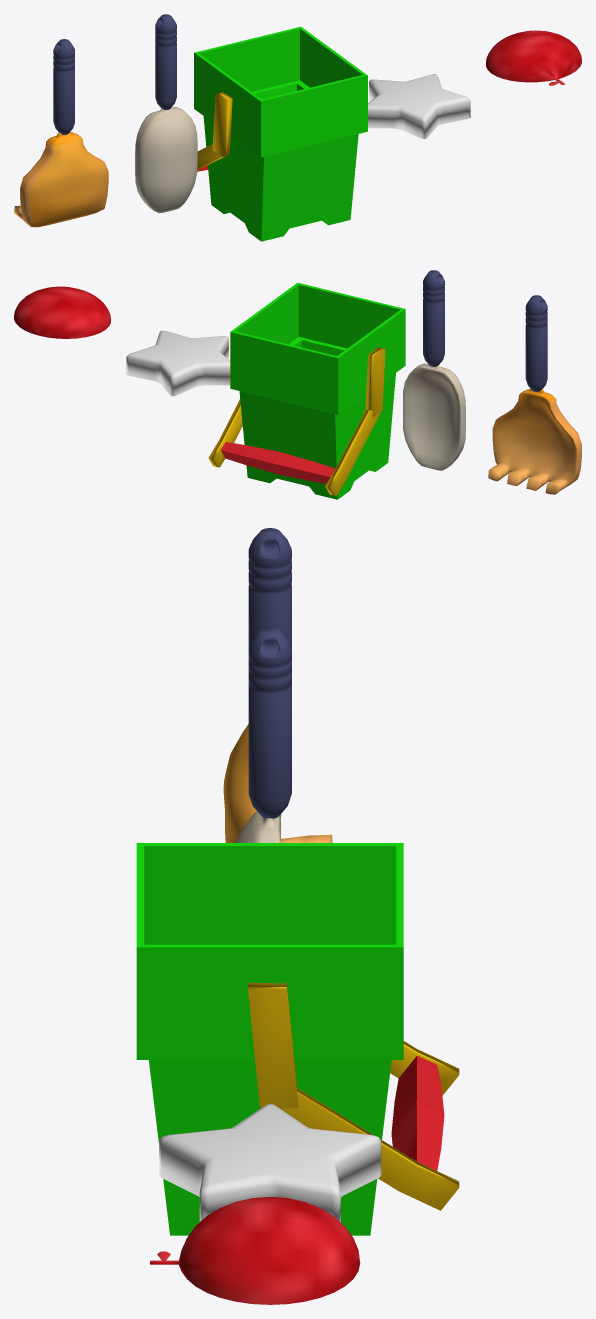
File: Beach toys .fbx
3 views of the same model, one above another, from view 1: azimuth 30°, elevation 25°; view 2: azimuth 150°, elevation 25°; view 3: azimuth 270°, elevation 25° (orthographic). The views are drawn at different scales.
Visible parts, largest first — view 1: Cube, Cube.002, Cube.001, Star, Sphere, Cylinder, Cylinder.002, Cube.003; view 2: Cube, Cube.002, Cube.001, Star, Sphere, Cube.003, Cube.004, Cylinder.002, Cylinder; view 3: Cube, Star, Sphere, Cube.003, Cylinder, Cube.004, Cylinder.002, Cube.002, Cube.001.
Boxes of the visible parts, bbox=[...] form: Cube: bbox=[194, 26, 367, 241]; Cube.002: bbox=[14, 131, 108, 227]; Cube.001: bbox=[135, 107, 197, 213]; Star: bbox=[368, 74, 470, 139]; Sphere: bbox=[486, 30, 581, 85]; Cylinder: bbox=[155, 14, 176, 109]; Cylinder.002: bbox=[53, 39, 74, 134]; Cube.003: bbox=[197, 92, 232, 170]; Cube: bbox=[230, 282, 405, 499]; Cube.002: bbox=[488, 389, 581, 494]; Cube.001: bbox=[403, 363, 465, 470]; Star: bbox=[126, 330, 230, 396]; Sphere: bbox=[14, 286, 110, 338]; Cube.003: bbox=[208, 347, 385, 495]; Cube.004: bbox=[221, 442, 335, 483]; Cylinder.002: bbox=[525, 295, 547, 391]; Cylinder: bbox=[423, 270, 444, 366]; Cube: bbox=[136, 843, 403, 1235]; Star: bbox=[159, 1103, 381, 1222]; Sphere: bbox=[150, 1197, 360, 1304]; Cube.003: bbox=[248, 982, 459, 1210]; Cylinder: bbox=[248, 627, 291, 818]; Cube.004: bbox=[391, 1055, 444, 1170]; Cylinder.002: bbox=[248, 528, 291, 684]; Cube.002: bbox=[223, 724, 332, 842]; Cube.001: bbox=[235, 811, 281, 842].
Bounding box in the file's own units: 1875 × 724 × 472.
7 materials, 3 textured.
